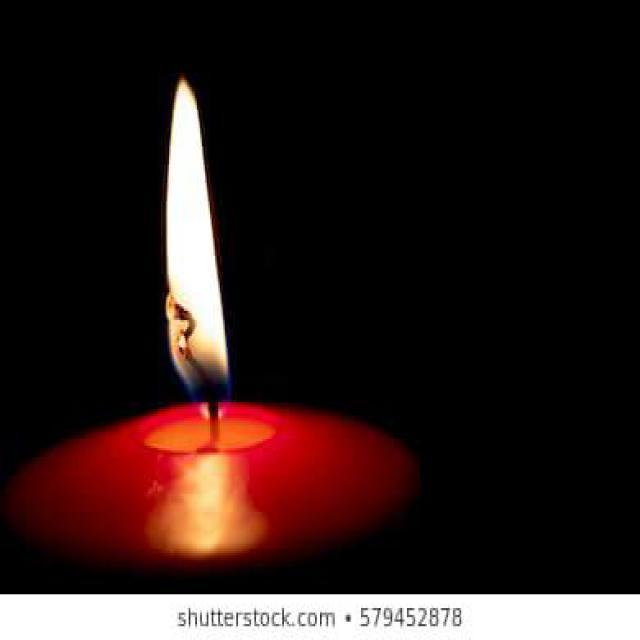Fire: (166, 78, 231, 420)
